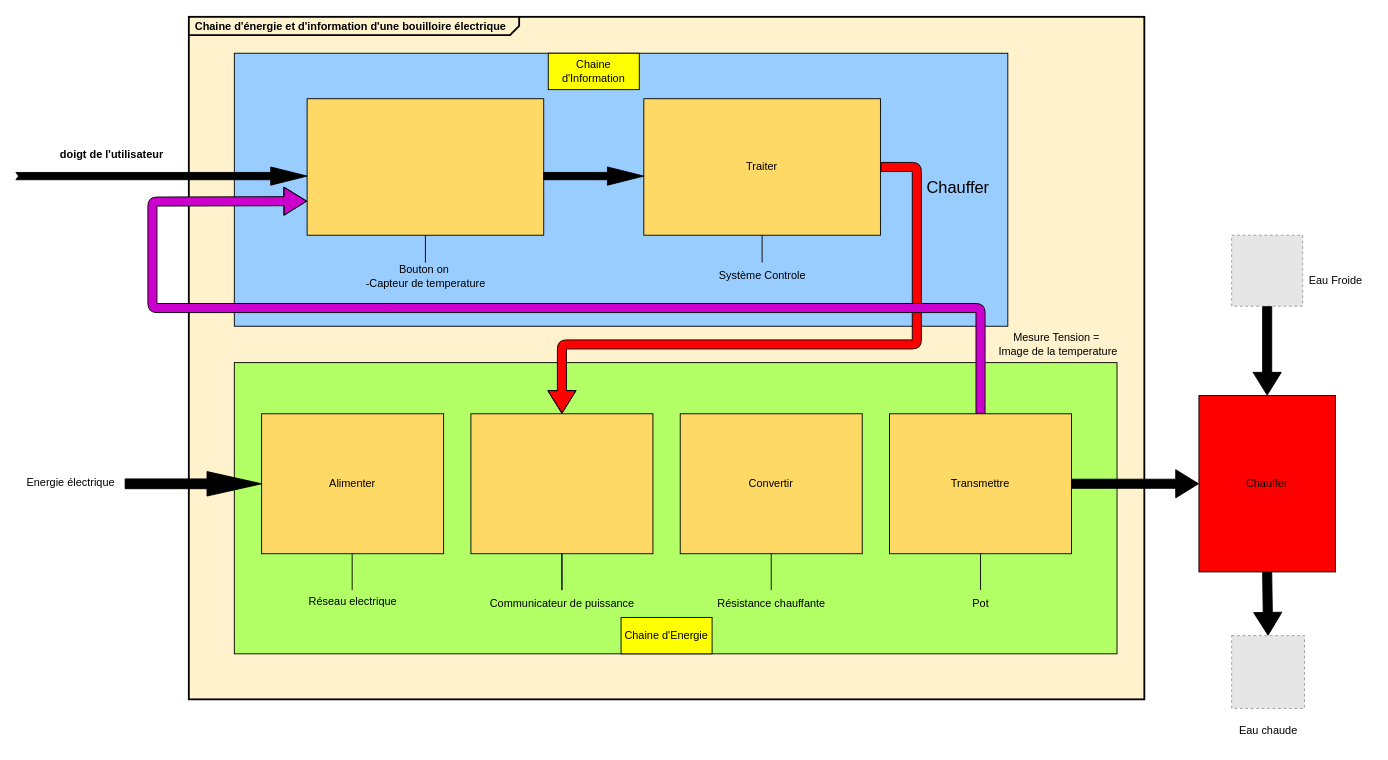
The diagram is 1388 pixels wide and 760 high, and some of its shapes have lost their labels. Grey dashed boxes stand in for pictures. Here are the shapes that lost their labels. From the top down, the centre of each, then its label:
(425,166): A cquérir
(561,483): Distribuer
